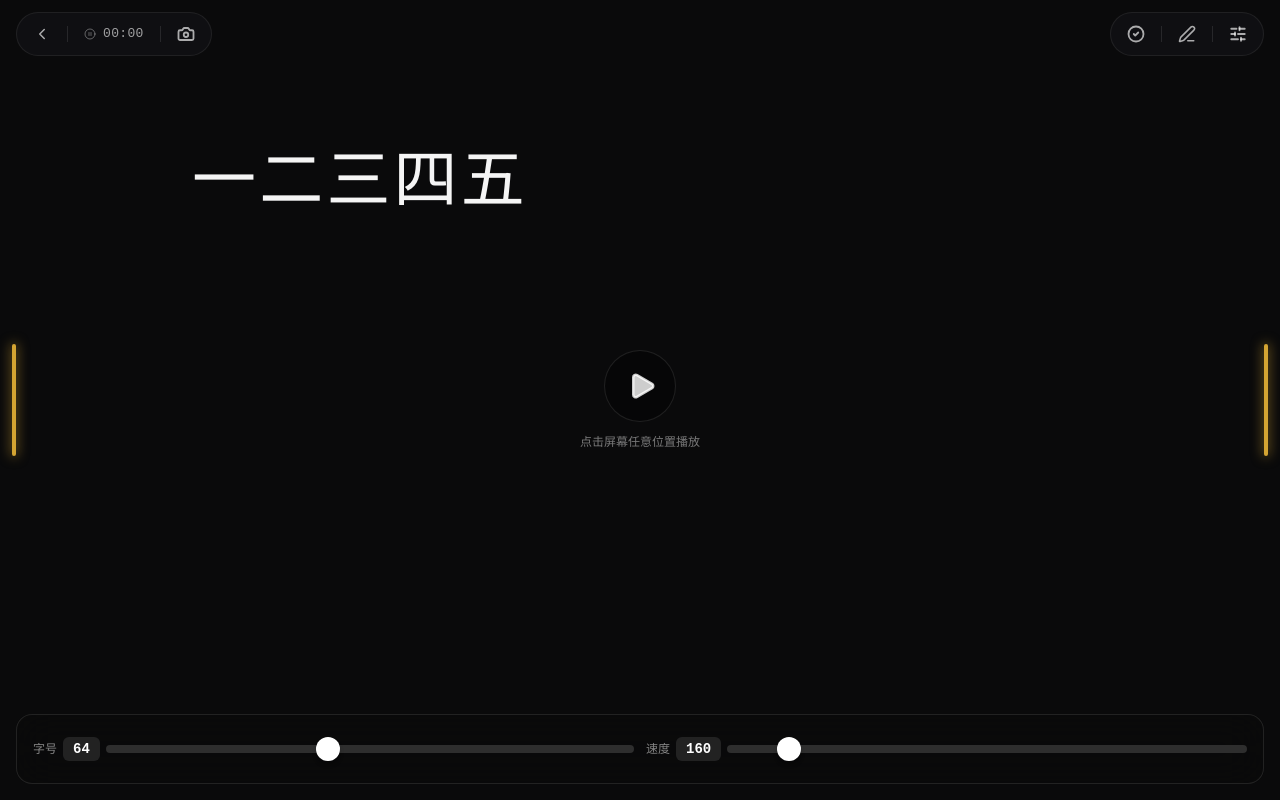
Test: Teleprompter 双指捏合调字号 › 单指轻点仍可切换播放
Press the mouse on the element with class "teleprompter-touch" at [360, 178], box [192, 140, 528, 217]
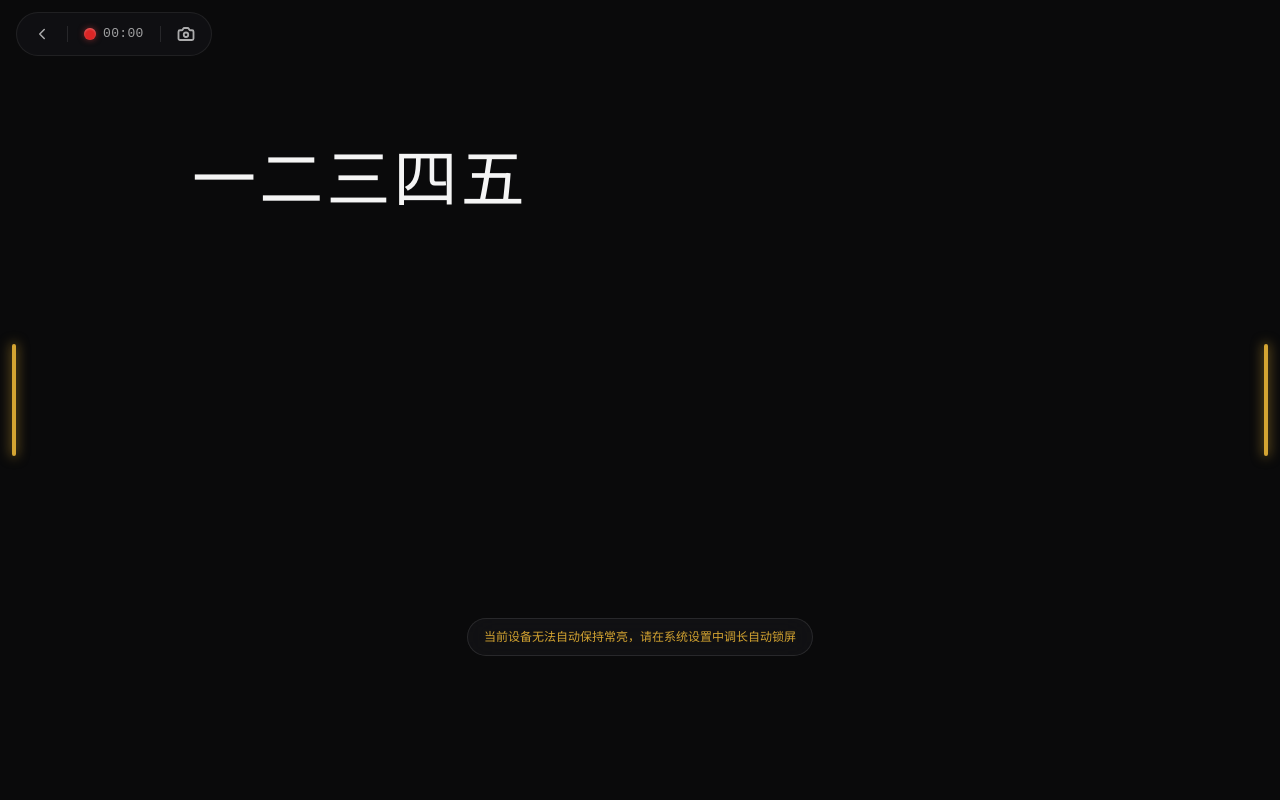
Result: the element named "播放中" is shown at [84, 26, 144, 41]
